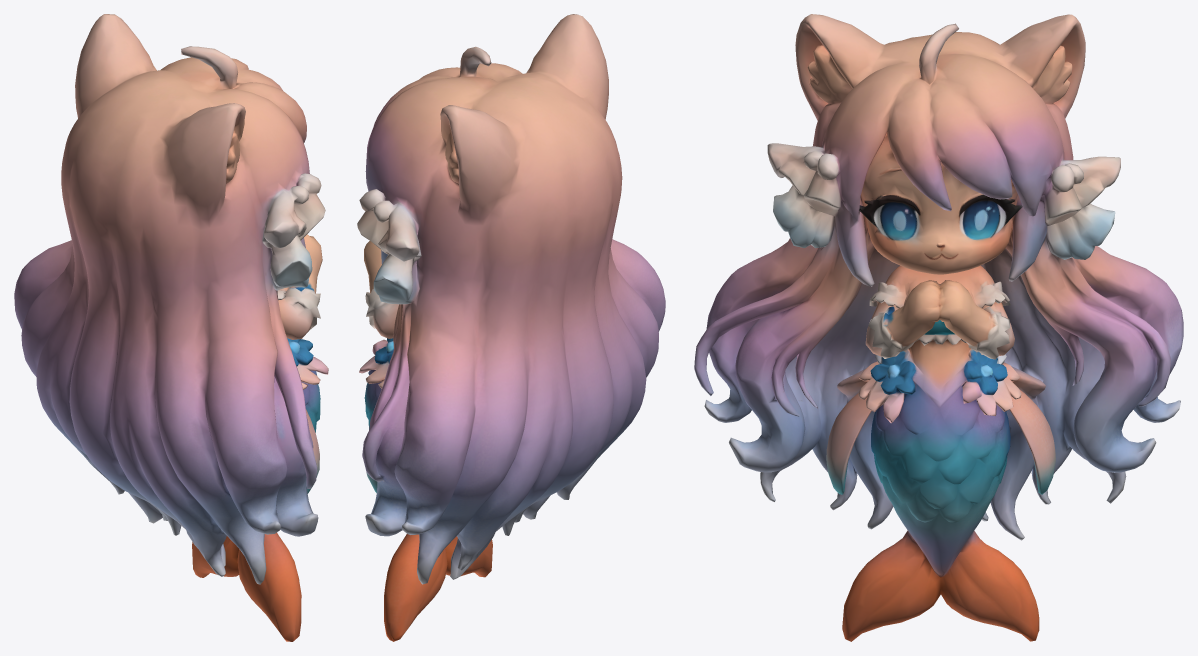
The model's file is mermaid.glb.
3 renders of one model, left to right at view 1: azimuth 30°, elevation 25°; view 2: azimuth 150°, elevation 25°; view 3: azimuth 270°, elevation 25°, orthographic. The views are drawn at different scales.
Visible parts, largest first — view 1: tripo_node_f1dde7fe-0624-4753-9cdd-ee7a02c2fb97; view 2: tripo_node_f1dde7fe-0624-4753-9cdd-ee7a02c2fb97; view 3: tripo_node_f1dde7fe-0624-4753-9cdd-ee7a02c2fb97.
Part boxes in pixels (left/top/right/bottom): tripo_node_f1dde7fe-0624-4753-9cdd-ee7a02c2fb97: left=14, top=14, right=328, bottom=641; tripo_node_f1dde7fe-0624-4753-9cdd-ee7a02c2fb97: left=357, top=14, right=665, bottom=641; tripo_node_f1dde7fe-0624-4753-9cdd-ee7a02c2fb97: left=694, top=14, right=1183, bottom=641.
Size of the model in its own units: 0.4248 by 0.9796 by 0.7359.
Materials: 1 (1 with a texture image).
